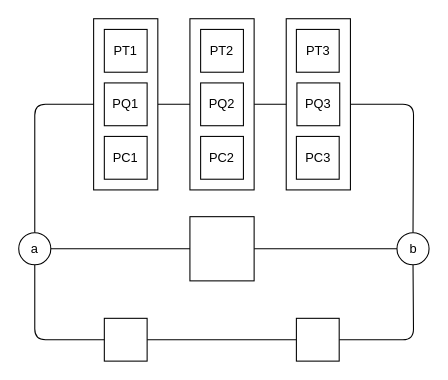
Image size: 448x380. Some labels were removed from this diagram. Here are the shapes that lost their labels. From the top down, the centre of each, then its label:
At (x=221, y=248): "PS".
At (x=125, y=339): "TA".
At (x=317, y=339): "TB".
